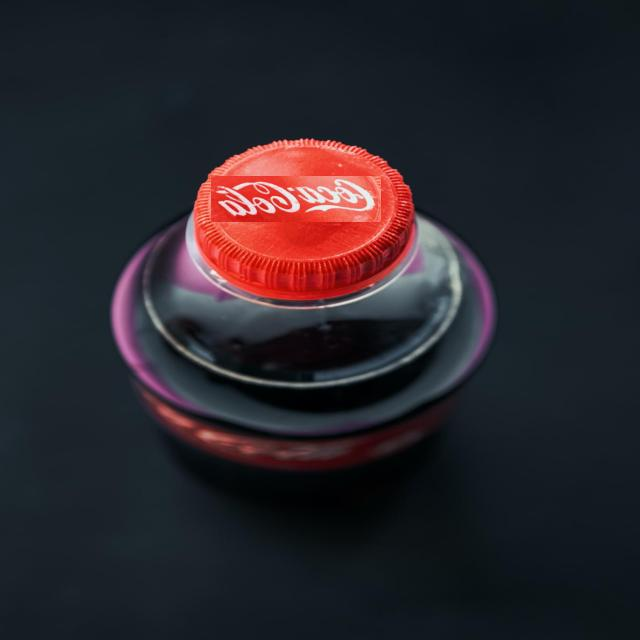coca-cola: (211, 176, 381, 222)
